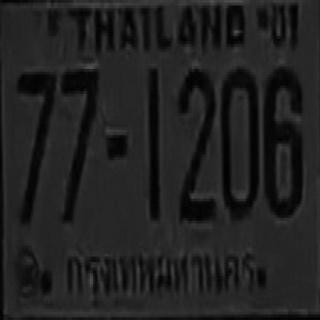N00: (220, 66, 258, 218)
N01: (147, 65, 159, 219)
N02: (178, 66, 214, 221)
N06: (263, 65, 302, 217)
N07: (16, 69, 54, 224), (61, 66, 98, 221)
P04: (65, 239, 265, 310)
